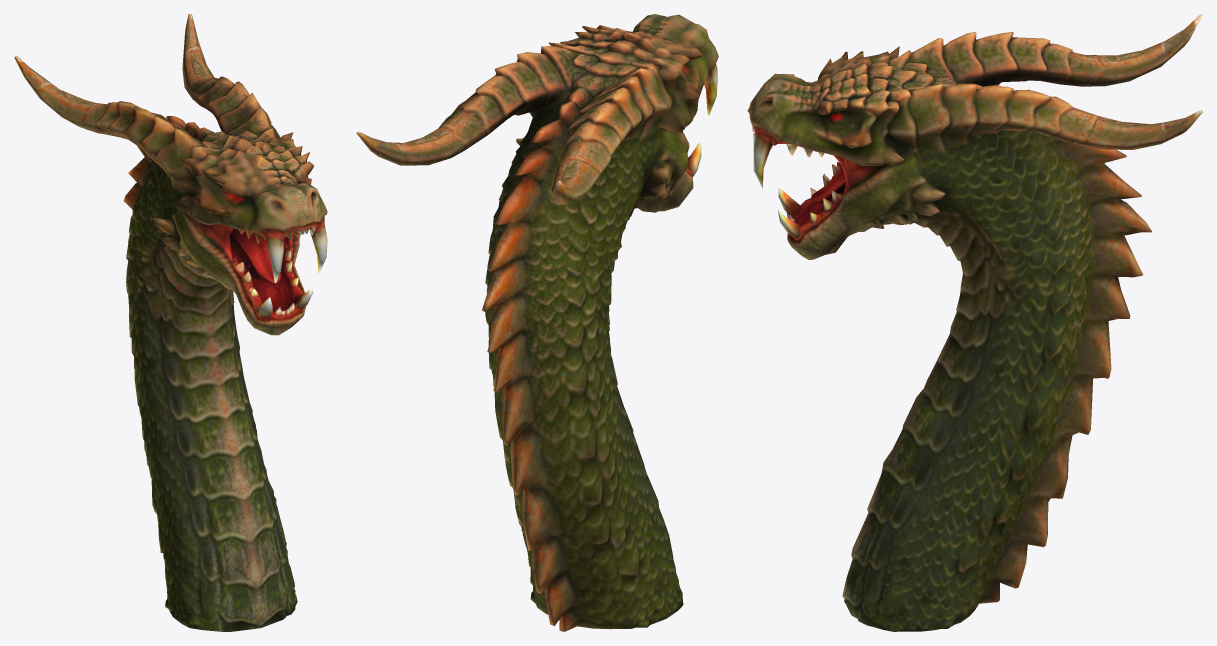
The model's file is HydraHead.glb.
3 renders of one model, left to right at view 1: azimuth 30°, elevation 25°; view 2: azimuth 150°, elevation 25°; view 3: azimuth 270°, elevation 25°, orthographic. The views are drawn at different scales.
Visible parts, largest first — view 1: low; view 2: low; view 3: low.
Boxes of the visible parts, x1,y1,x2,y2 form: low: [14, 14, 327, 631]; low: [356, 14, 718, 631]; low: [747, 14, 1202, 631].
Bounding box in the file's own units: 0.9653 × 2.5 × 1.9.
1 material, 1 textured.
